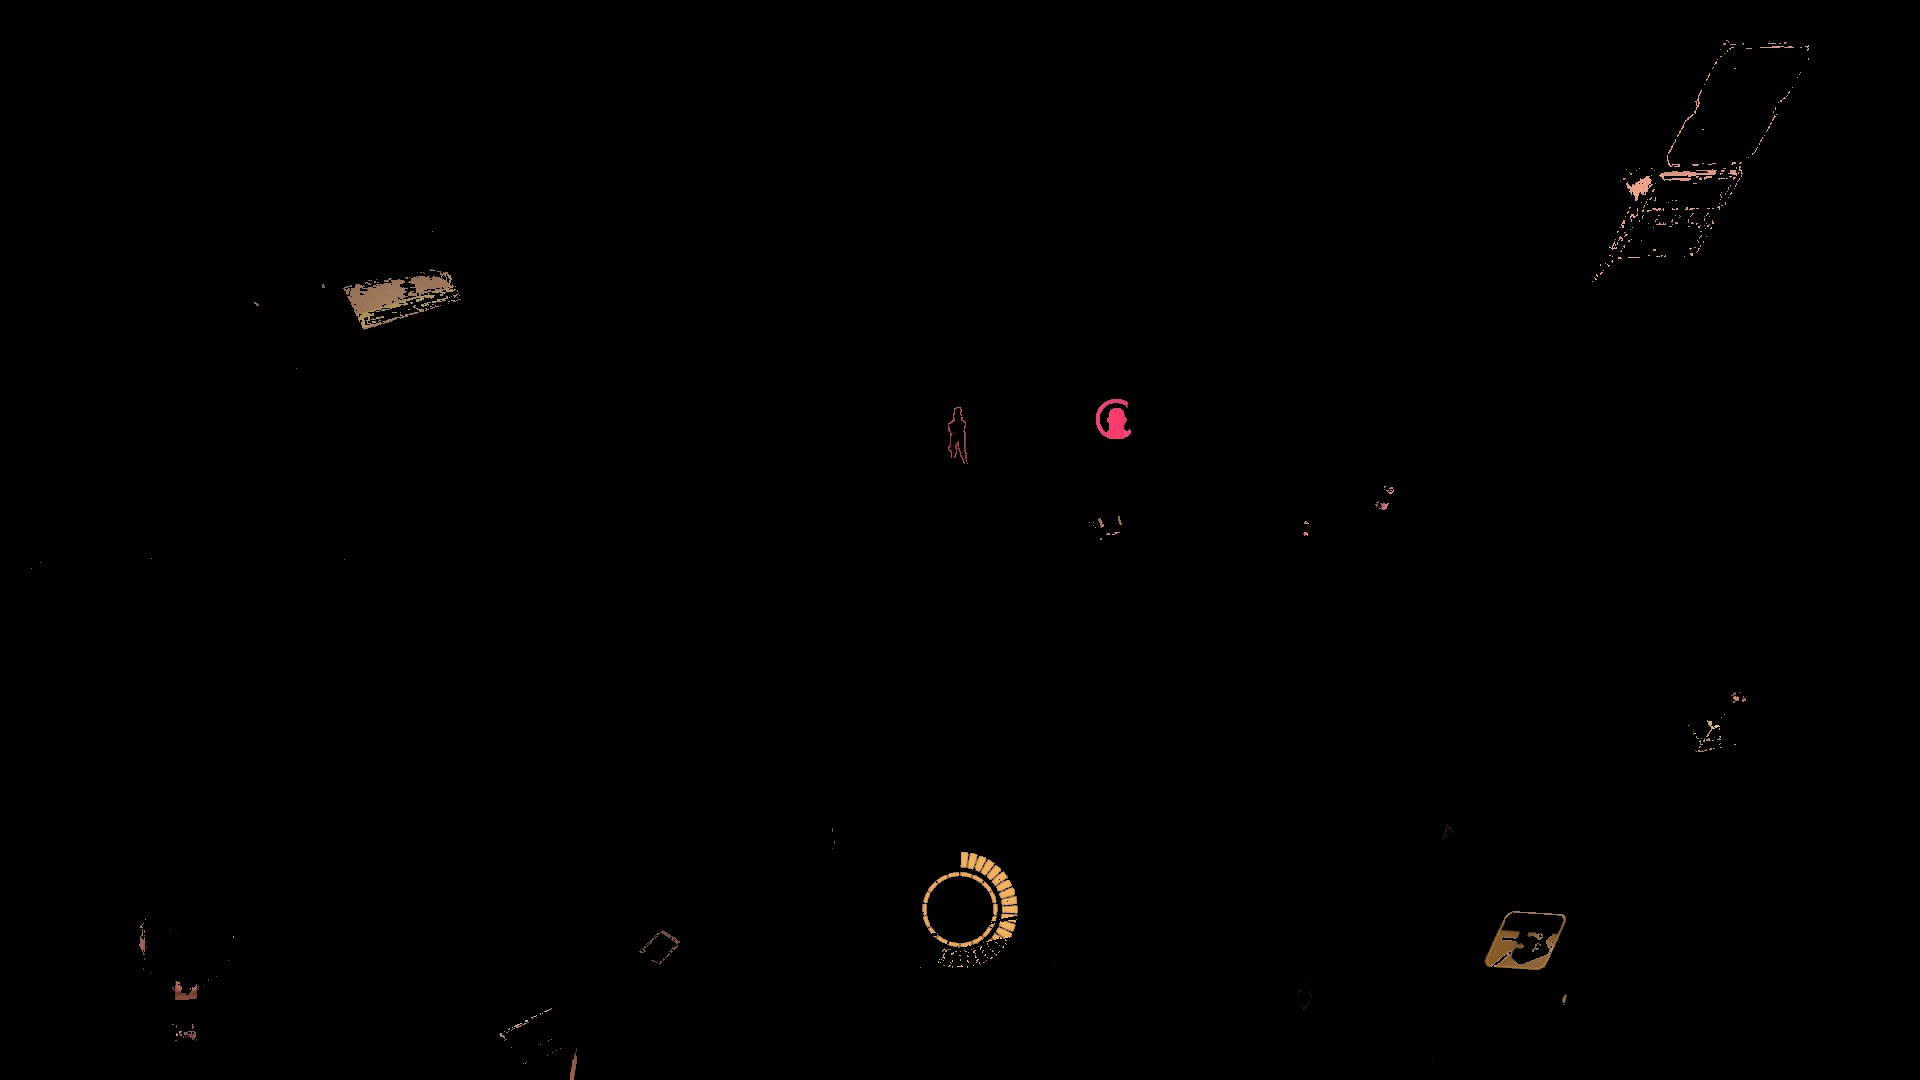widowmaker: (947, 406, 971, 465)
